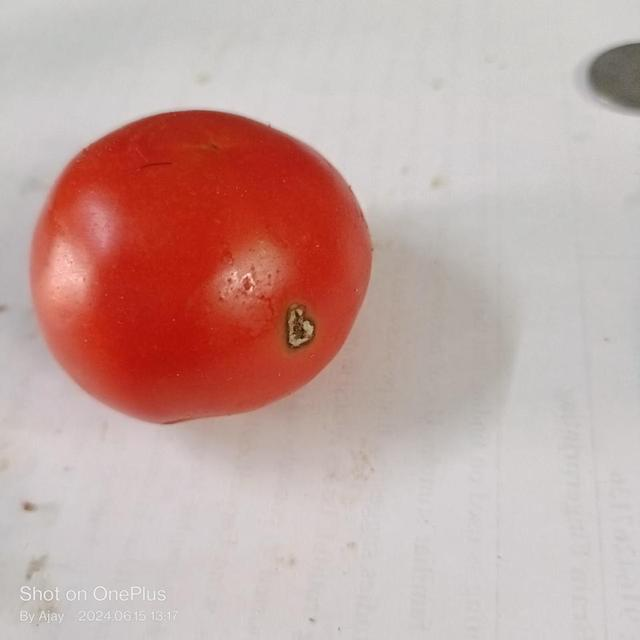Bacterial Spot Fruit: (189, 202, 211, 235)
